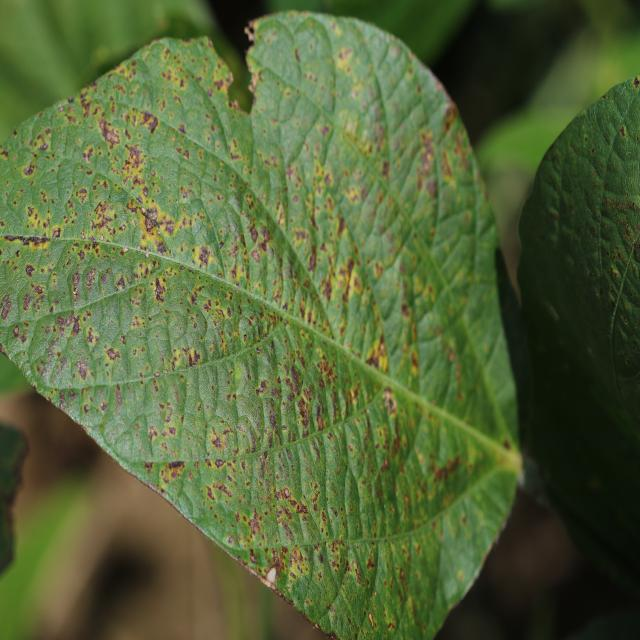Bacterial_Blight: (191, 279, 242, 346), (274, 480, 313, 524), (103, 107, 138, 154), (54, 308, 87, 345), (421, 125, 439, 190), (156, 395, 181, 437), (24, 202, 54, 236), (366, 332, 388, 372), (433, 453, 462, 483), (93, 199, 119, 232), (252, 224, 275, 261), (26, 281, 49, 316), (208, 424, 233, 456), (206, 477, 234, 505), (159, 461, 186, 485), (296, 395, 312, 432), (316, 354, 336, 381), (142, 207, 160, 233), (0, 293, 14, 322), (382, 388, 397, 414), (289, 366, 302, 395), (247, 510, 261, 536), (346, 184, 362, 206), (186, 347, 202, 368), (84, 268, 98, 291), (71, 272, 82, 301), (153, 278, 166, 302), (76, 359, 89, 381), (198, 247, 211, 268), (308, 245, 317, 273), (81, 146, 95, 163), (115, 275, 127, 292), (106, 347, 120, 361), (249, 224, 258, 243), (148, 426, 158, 443), (157, 241, 168, 256), (25, 263, 36, 278), (23, 163, 35, 176), (115, 385, 123, 403), (366, 556, 375, 571), (177, 123, 186, 136), (502, 437, 511, 450), (249, 550, 257, 564), (259, 380, 267, 391), (83, 404, 90, 414), (328, 604, 335, 614), (120, 334, 126, 345), (228, 536, 234, 545)
Soybean: (0, 13, 521, 640)
